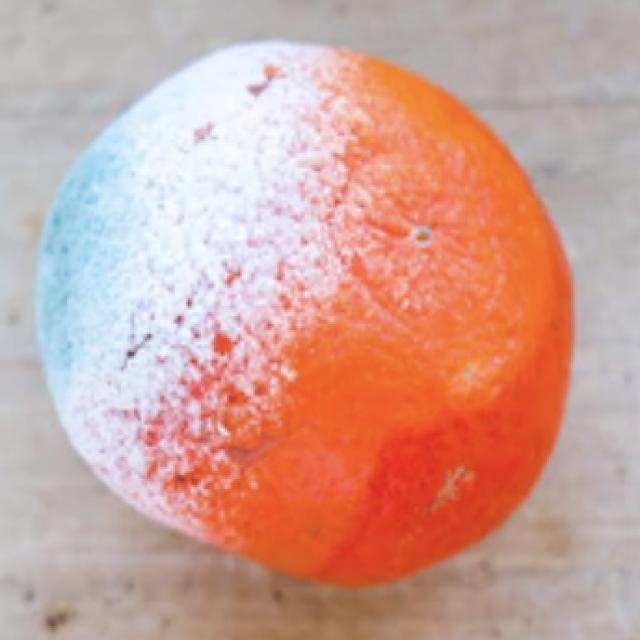rotten-orange: (47, 35, 573, 577)
